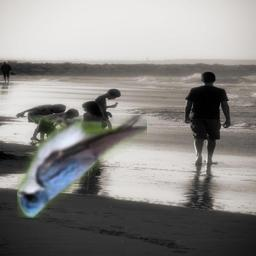Swallow: (17, 115, 147, 218)
